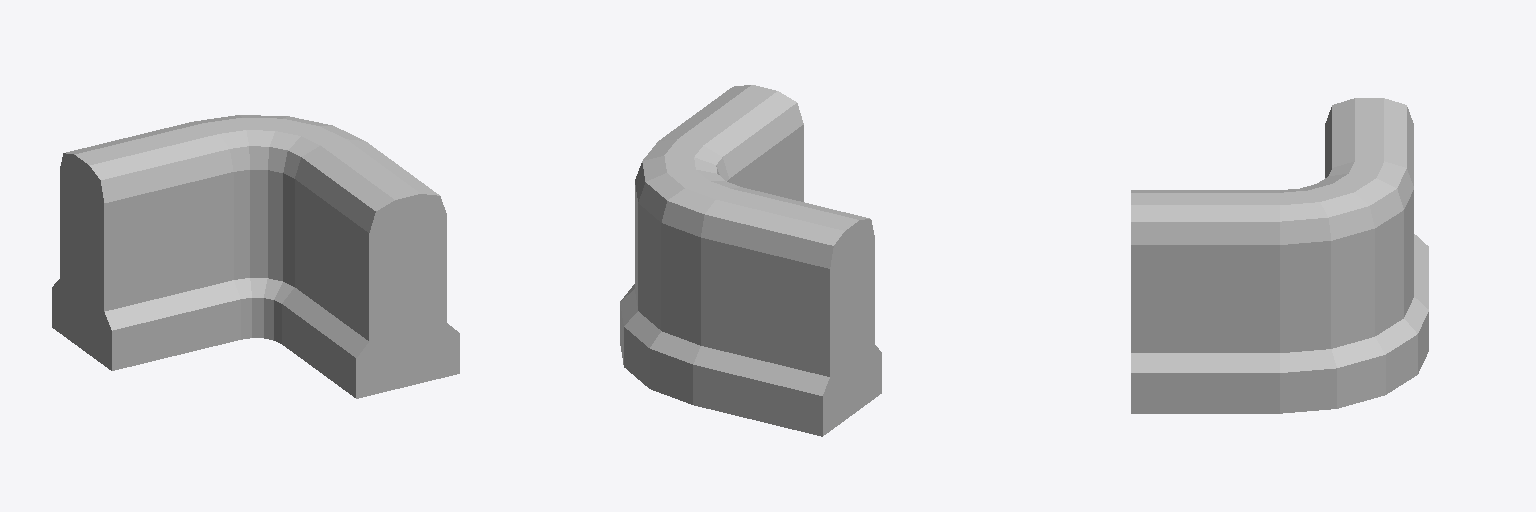
Rendered from hedgeLargeCurved.obj.
3 views of the same model, side by side, from view 1: azimuth 30°, elevation 25°; view 2: azimuth 150°, elevation 25°; view 3: azimuth 270°, elevation 25° (orthographic).
Parts seen in each view (by area): view 1: hedgeLargeCurved; view 2: hedgeLargeCurved; view 3: hedgeLargeCurved.
Boxes of the visible parts, x1=… form: hedgeLargeCurved: x1=52, y1=115, x2=459, y2=398; hedgeLargeCurved: x1=620, y1=85, x2=881, y2=436; hedgeLargeCurved: x1=1131, y1=98, x2=1428, y2=413.
Size of the model in its own units: 1 by 0.7 by 1.